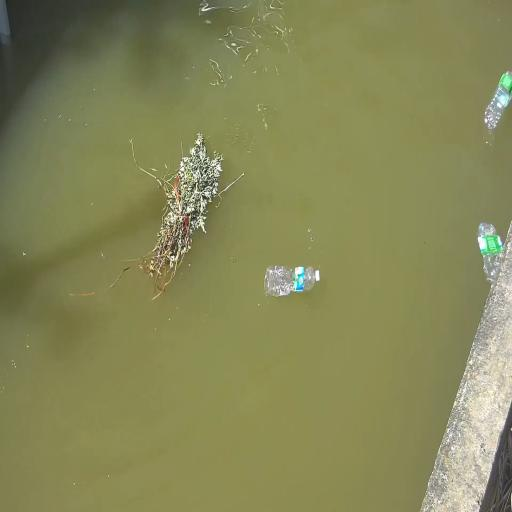plastic: (264, 267, 319, 296), (484, 72, 511, 129), (478, 223, 503, 283)
twig: (139, 133, 223, 296)
